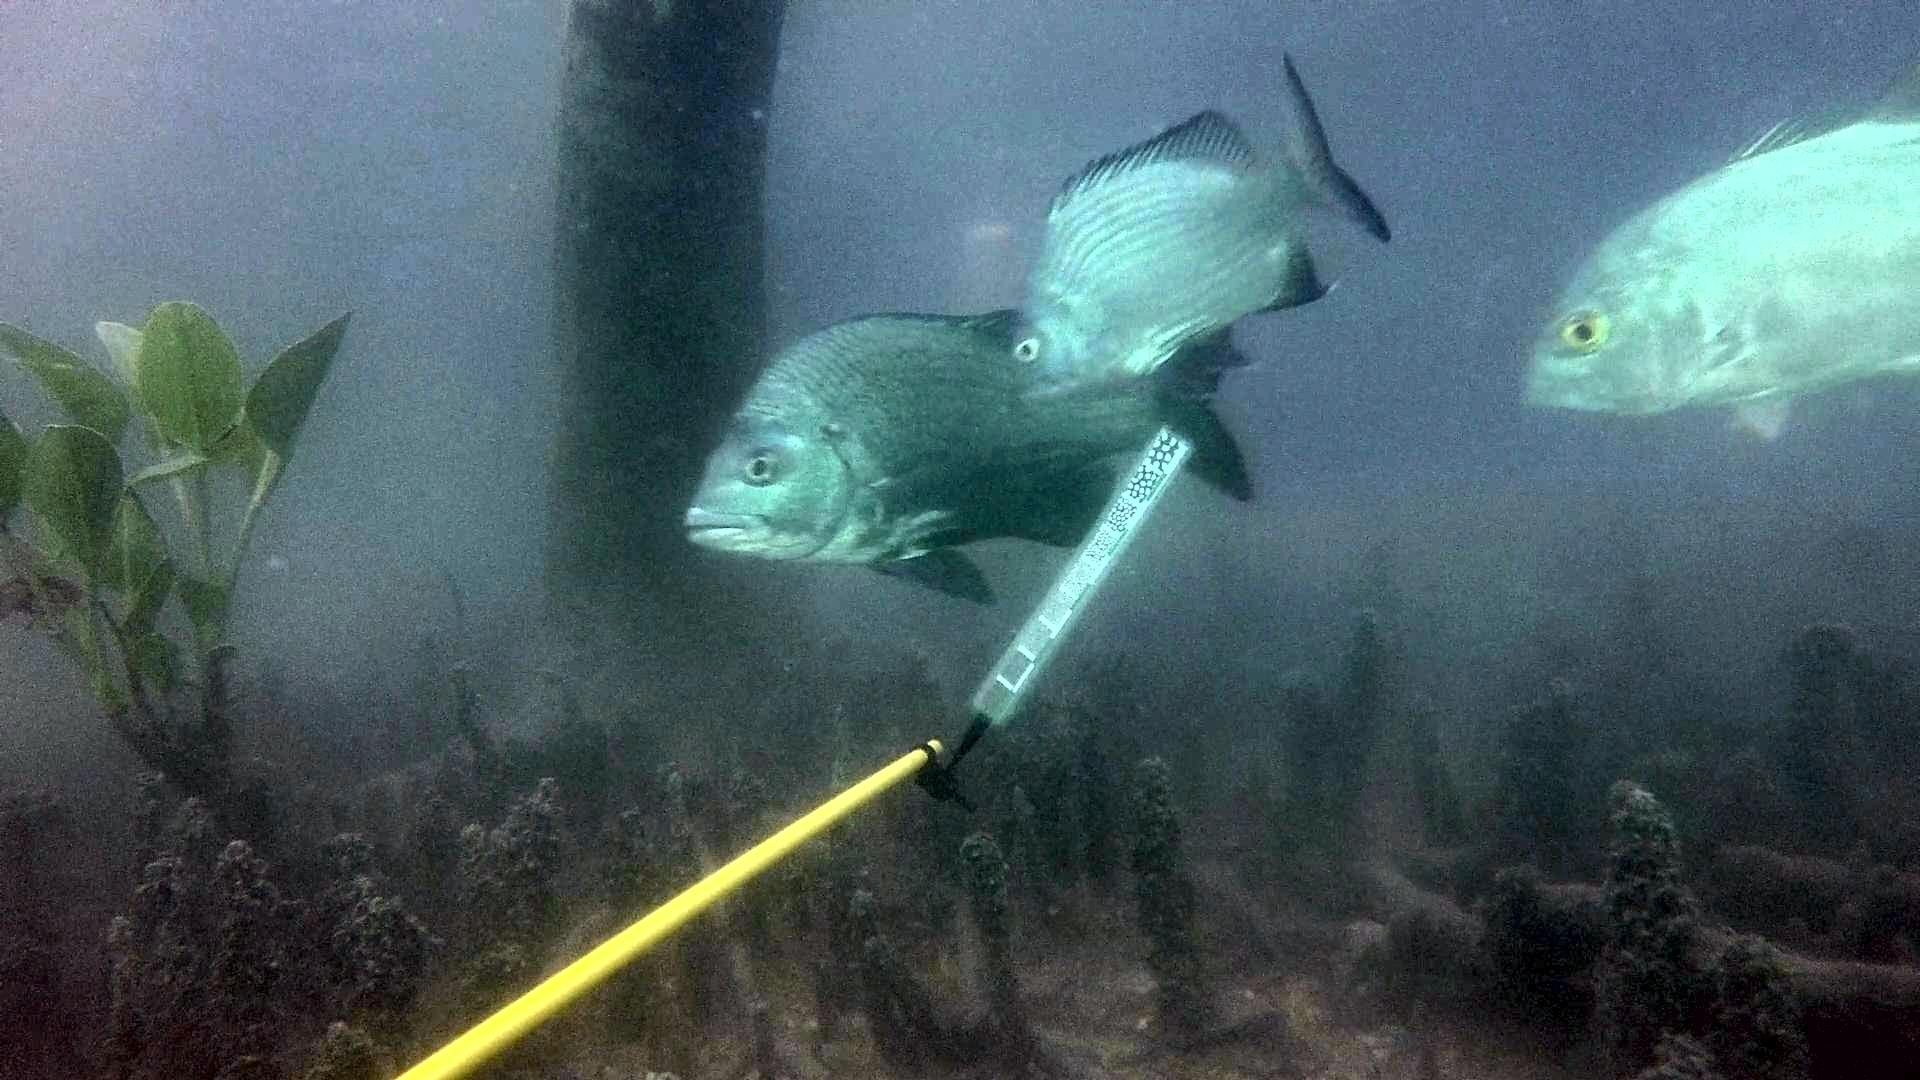acanthopagrus palmaris: (670, 306, 1270, 612), (1001, 47, 1395, 398)
caranx: (1520, 91, 1920, 444)
